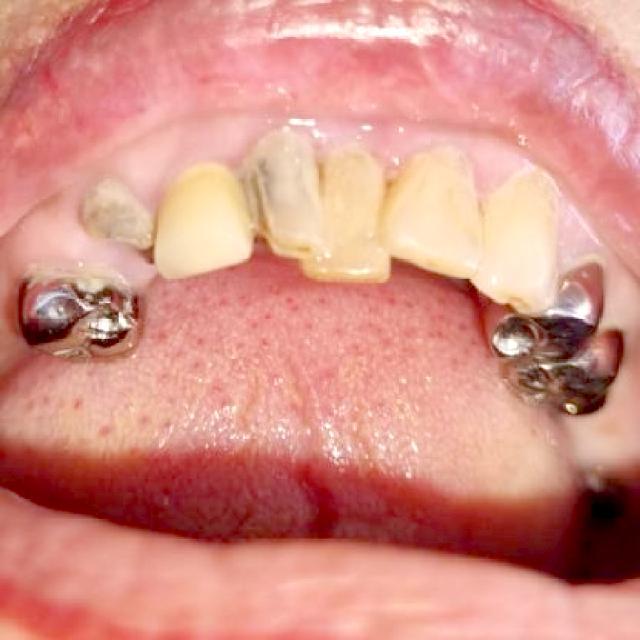Plaque: (209, 155, 291, 237), (75, 186, 149, 244)
